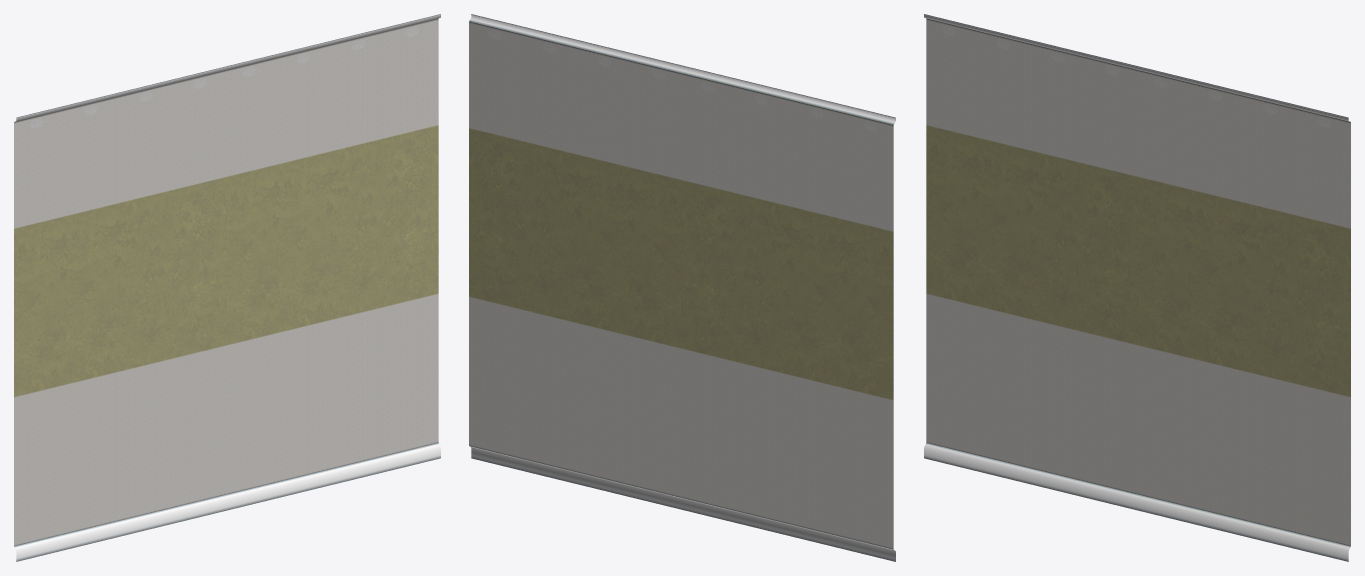
File: waitingroom_flat.dae
The picture shows the model from 3 angles, left to right: view 1: azimuth 30°, elevation 25°; view 2: azimuth 150°, elevation 25°; view 3: azimuth 330°, elevation 25°; orthographic projection.
Parts seen in each view (by area): view 1: polySurface7; view 2: polySurface7; view 3: polySurface7.
Boxes of the visible parts, left/top/right/bottom form: polySurface7: left=14, top=14, right=440, bottom=561; polySurface7: left=469, top=14, right=895, bottom=561; polySurface7: left=924, top=14, right=1350, bottom=561.
Size of the model in its own units: 4 by 4 by 0.0341.
